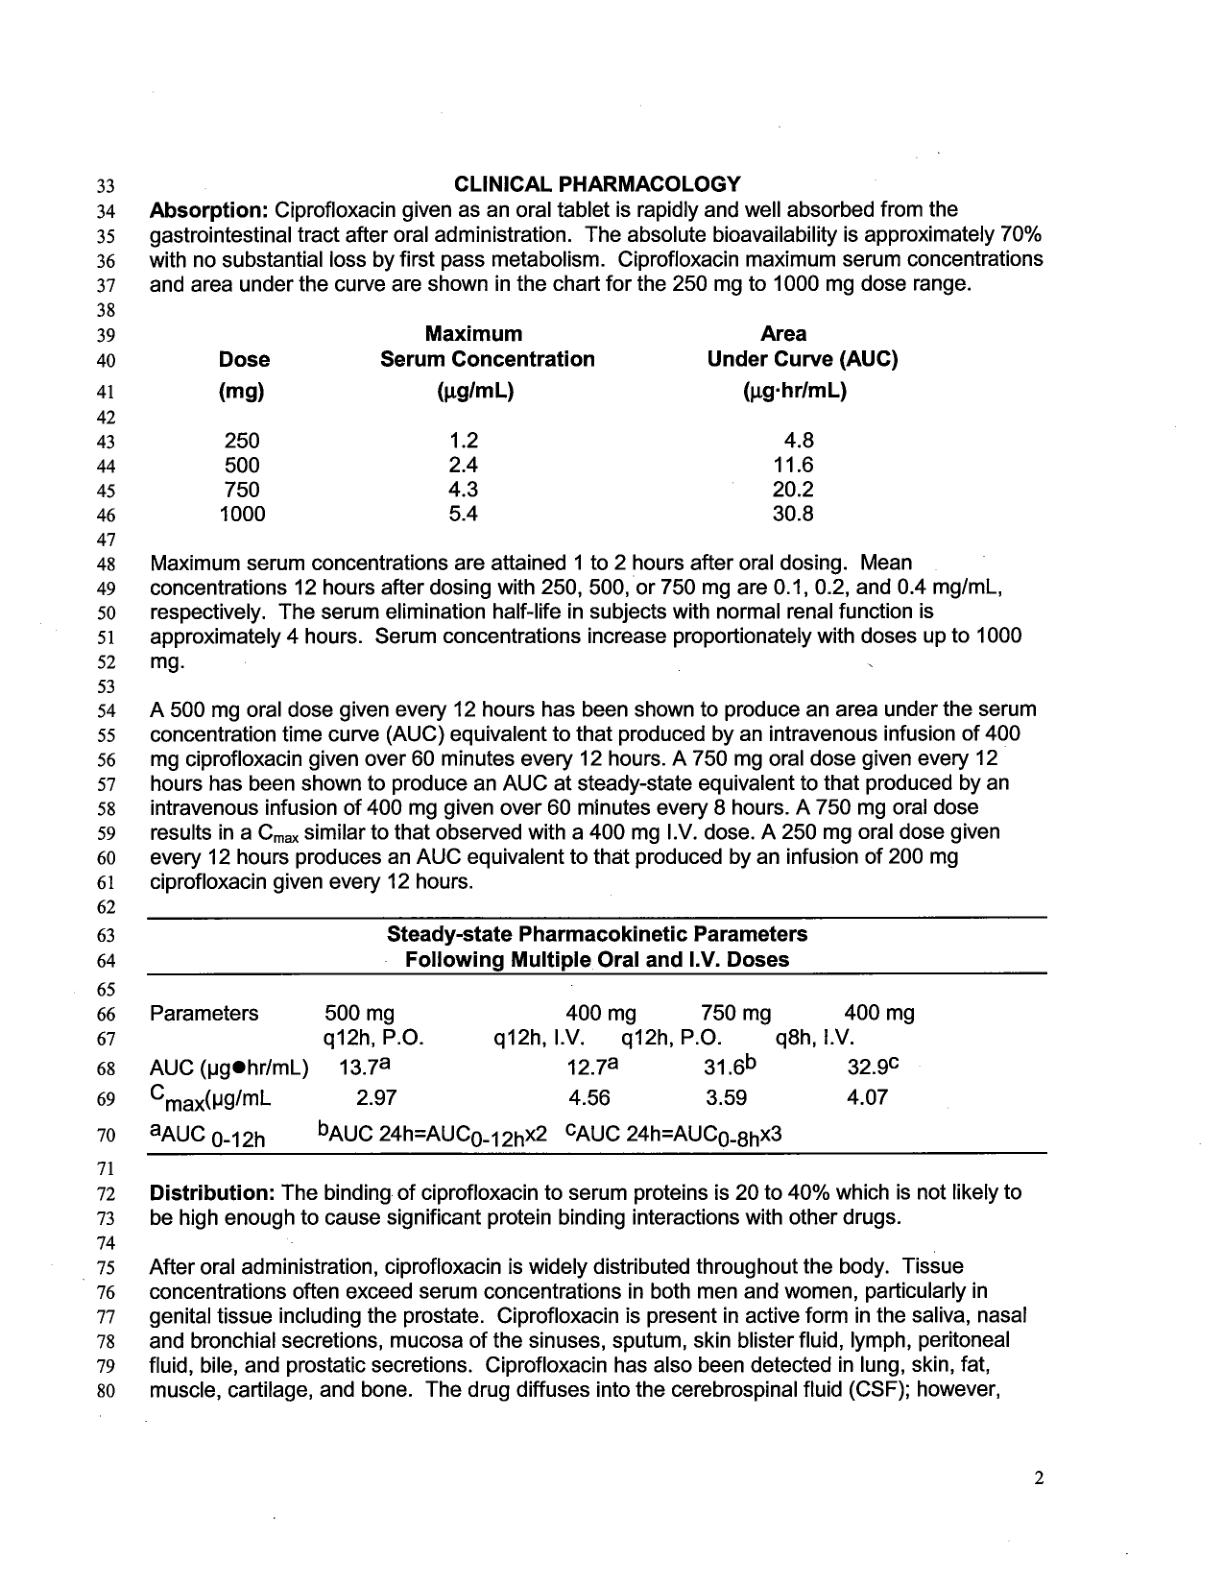nolines: (216, 324, 897, 525)
partial_lined: (147, 917, 1048, 1155)
